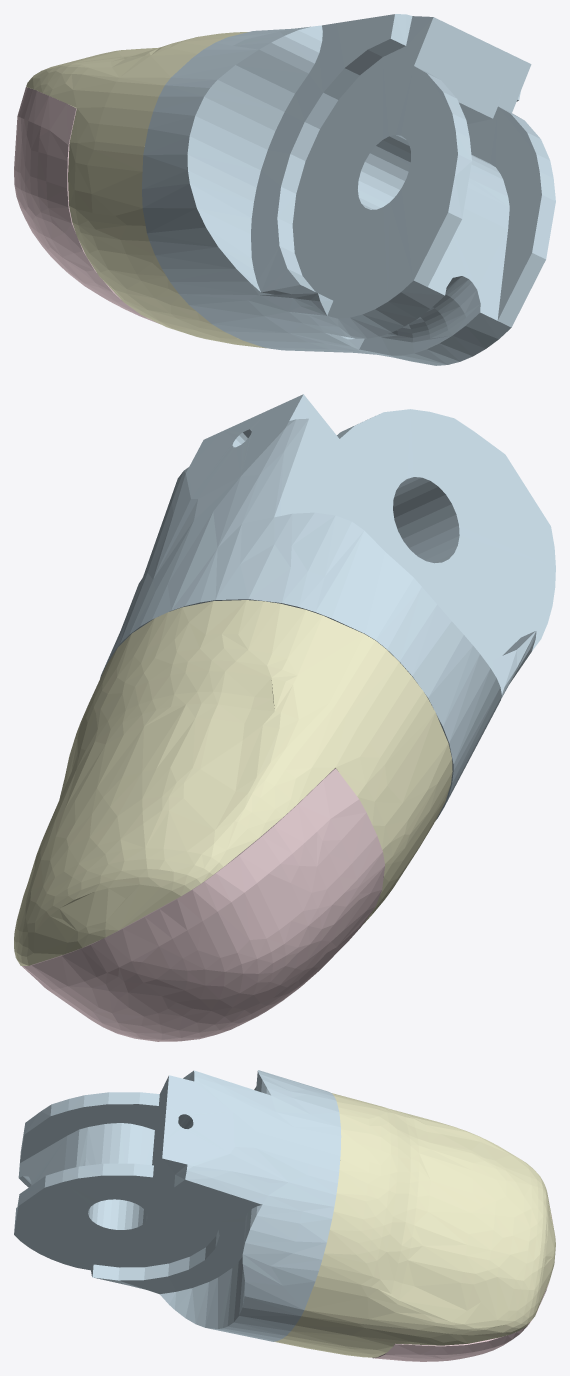
The model's file is i02_leftHand_pinkyTip_visual.obj.light.glb.
The picture shows the model from 3 angles, top to bottom: view 1: azimuth 30°, elevation 25°; view 2: azimuth 150°, elevation 25°; view 3: azimuth 270°, elevation 25°; orthographic projection. The views are drawn at different scales.
Size of the model in its own units: 0.1654 by 0.1995 by 0.326.
